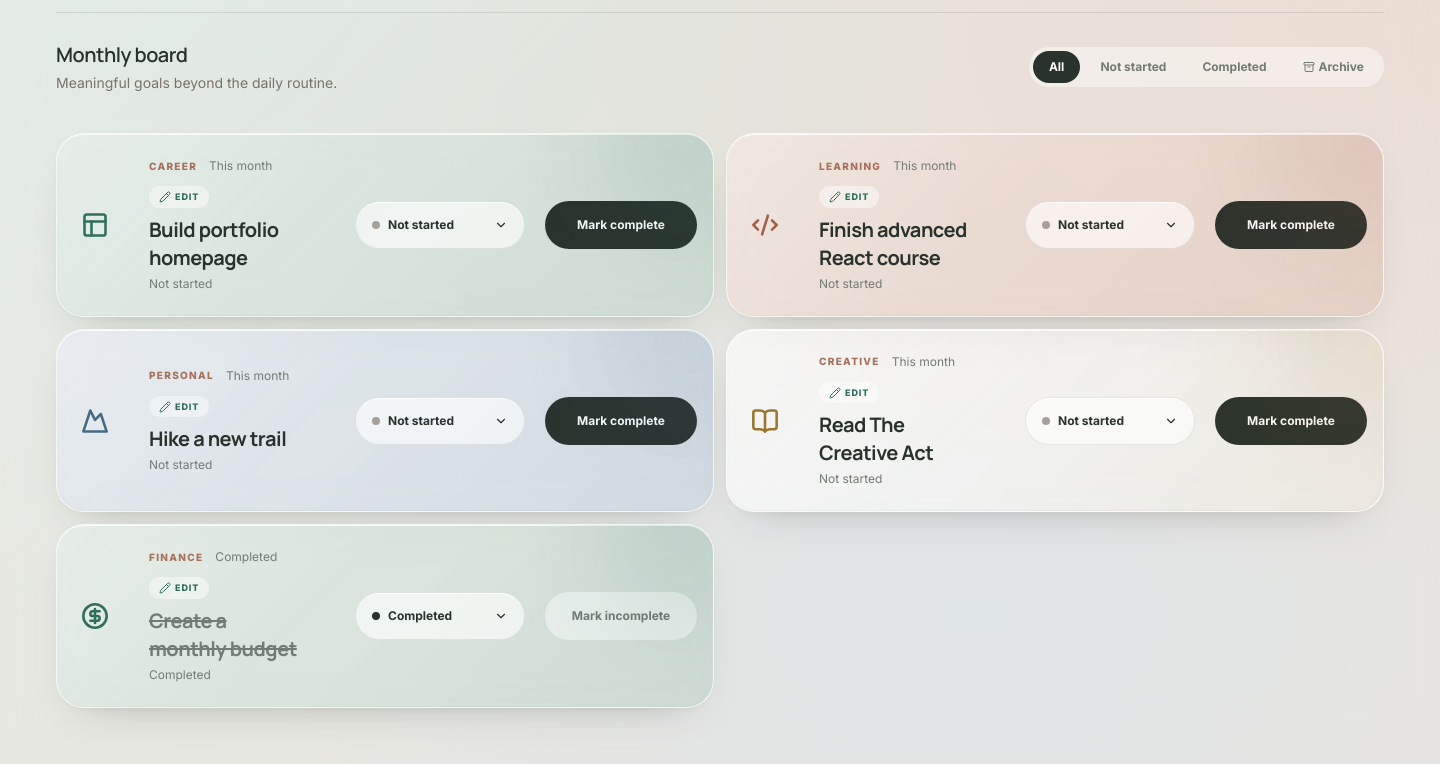
Test: QuestsDashboard › deletes a quest after confirmation
The image size is (1440, 764).
(page scrolled)
Click the button named "Edit Hike a new trail" at (179,407), box [149,396,209,417]
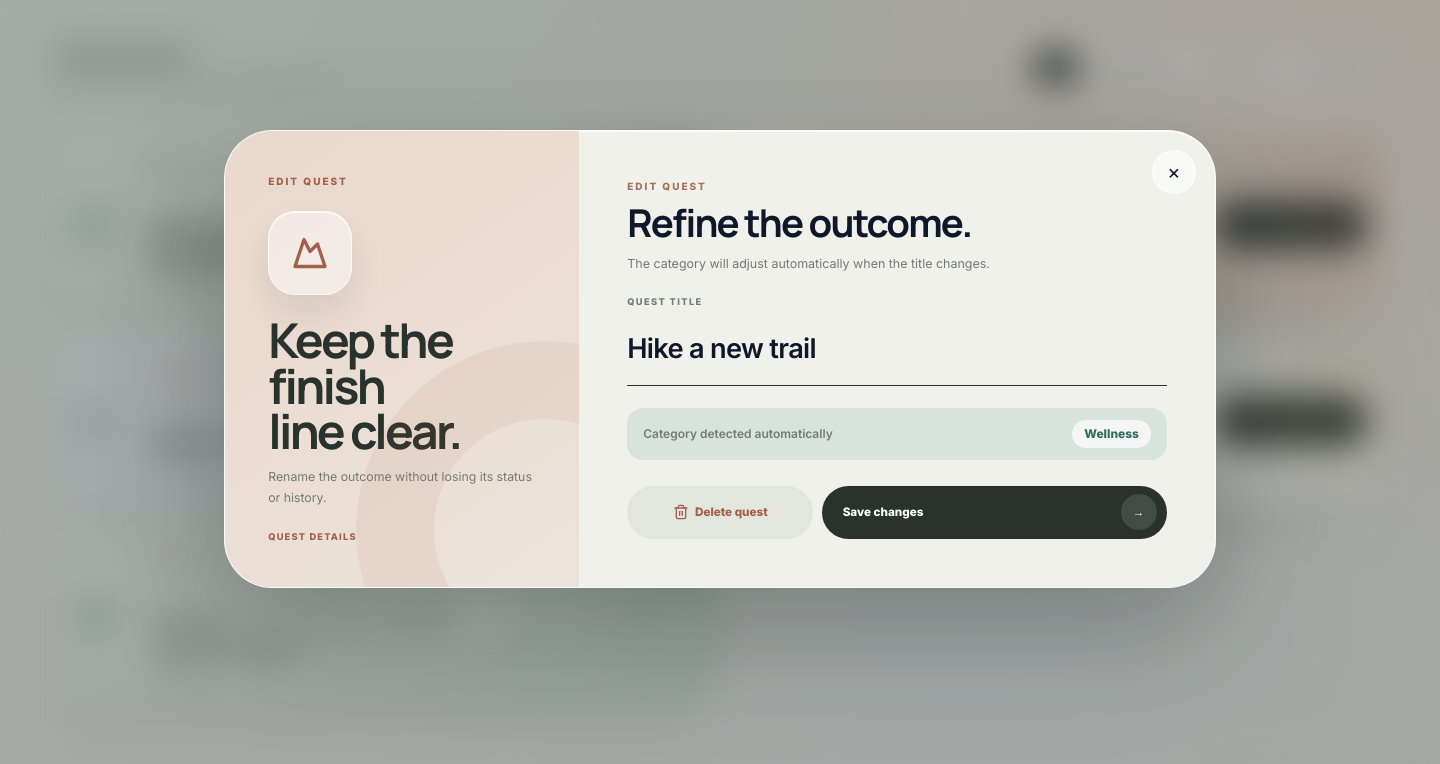
Click the button "Delete quest" at (720,512), box [627,486,813,539]
(page scrolled)
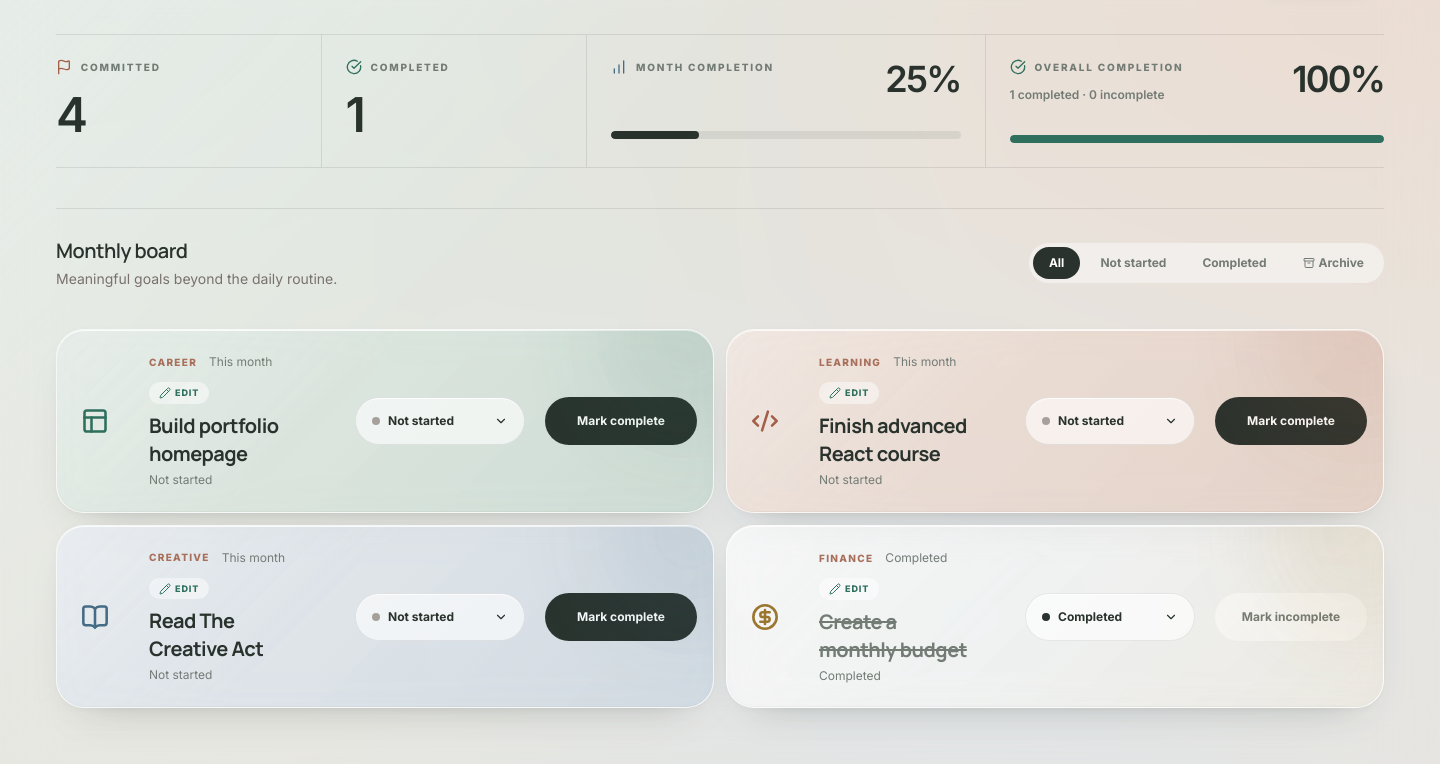
Check: the heading "Hike a new trail" is gone
